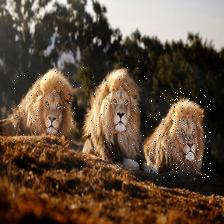Lion: (79, 62, 146, 173), (147, 88, 210, 181), (9, 71, 74, 141)
